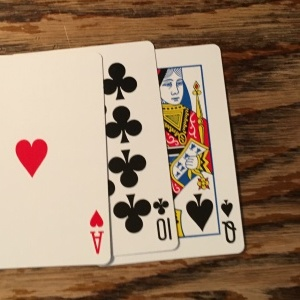card: (169, 45, 245, 255), (102, 42, 171, 263)
